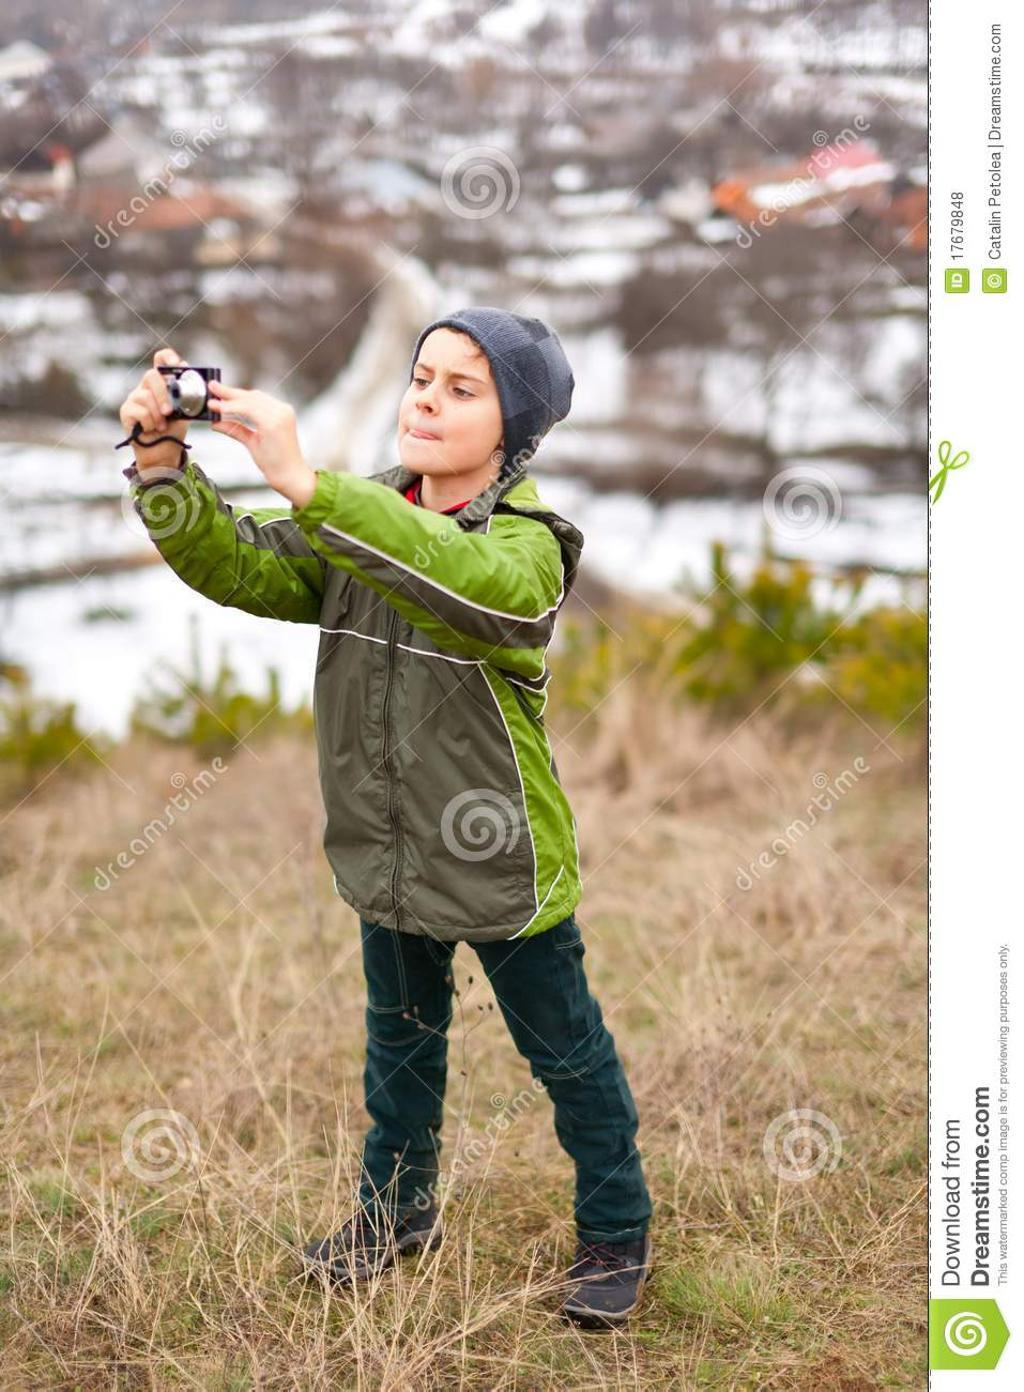face: (397, 329, 519, 476)
